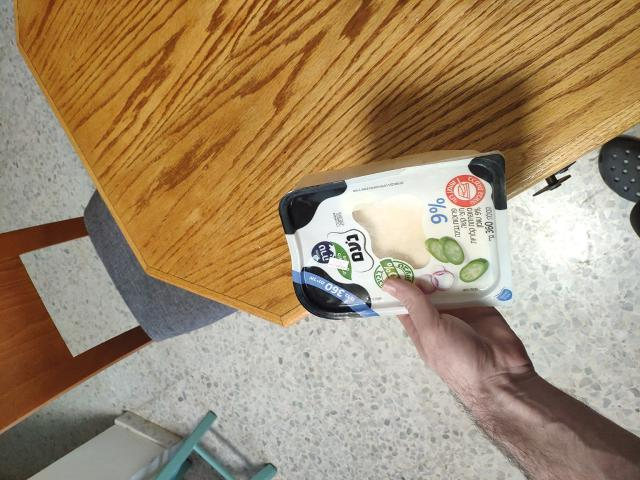cheese: (272, 164, 481, 320)
